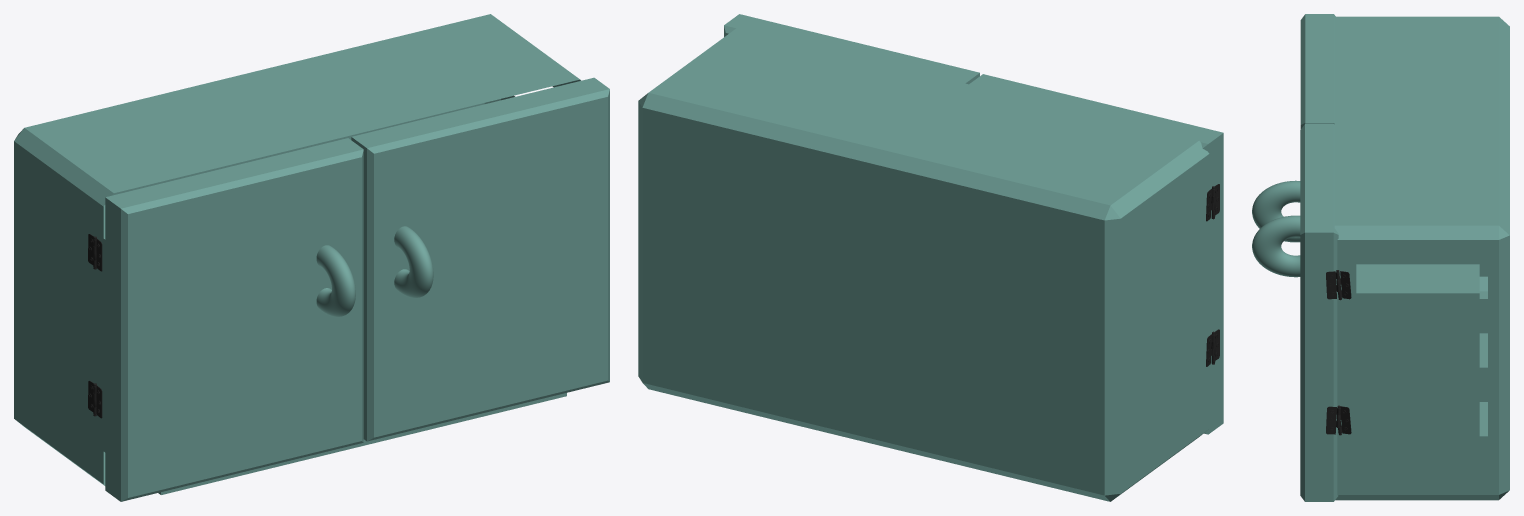
Rendered from GeneratorAp1.fbx.
3 views of the same model, side by side, from view 1: azimuth 30°, elevation 25°; view 2: azimuth 150°, elevation 25°; view 3: azimuth 270°, elevation 25° (orthographic). The views are drawn at different scales.
Parts seen in each view (by area): view 1: GenaratorLeftDoor, GenaratorRightDoor, pCube1, GeneratorSocket, DoorHandle2, DoorHandle1; view 2: pCube1, GenaratorLeftDoor, GenaratorRightDoor; view 3: pCube1, GenaratorRightDoor, GeneratorSocket, GenaratorLeftDoor, DoorHandle2, DoorHandle1, Door_hinges (×2), Door_hinges001, Door_hinges002.
Part boxes in pixels (bbox=[...]): GenaratorLeftDoor: bbox=[105, 138, 363, 501]; GenaratorRightDoor: bbox=[351, 77, 609, 441]; pCube1: bbox=[14, 14, 580, 485]; GeneratorSocket: bbox=[103, 205, 566, 494]; DoorHandle2: bbox=[394, 226, 433, 297]; DoorHandle1: bbox=[316, 245, 355, 316]; pCube1: bbox=[638, 28, 1209, 501]; GenaratorLeftDoor: bbox=[969, 74, 1223, 434]; GenaratorRightDoor: bbox=[724, 14, 979, 84]; pCube1: bbox=[1334, 16, 1509, 500]; GenaratorRightDoor: bbox=[1300, 123, 1338, 501]; GeneratorSocket: bbox=[1356, 264, 1479, 436]; GenaratorLeftDoor: bbox=[1300, 14, 1335, 129]; DoorHandle2: bbox=[1252, 215, 1300, 277]; DoorHandle1: bbox=[1252, 180, 1300, 242]; Door_hinges (×2): bbox=[1326, 270, 1340, 434]; Door_hinges001: bbox=[1338, 271, 1351, 300]; Door_hinges002: bbox=[1338, 406, 1351, 435].
Bounding box in the file's own units: 7.2 × 4.1 × 3.46.
